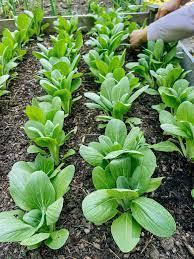Healthy-Pechay: (80, 1, 161, 240), (3, 103, 78, 249), (29, 13, 87, 190), (82, 8, 146, 123), (1, 8, 45, 100), (36, 16, 83, 72), (88, 1, 141, 41), (139, 61, 191, 101), (87, 20, 131, 59), (138, 38, 182, 75), (0, 40, 21, 95), (21, 6, 46, 41)
